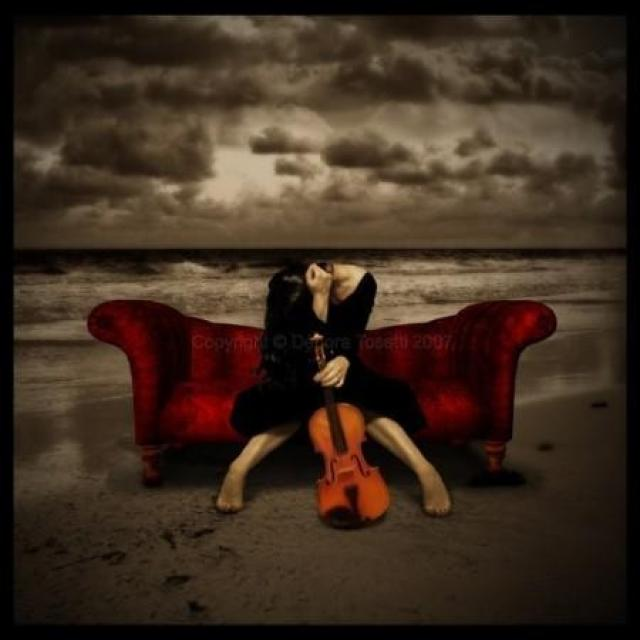violin: (304, 332, 395, 531)
